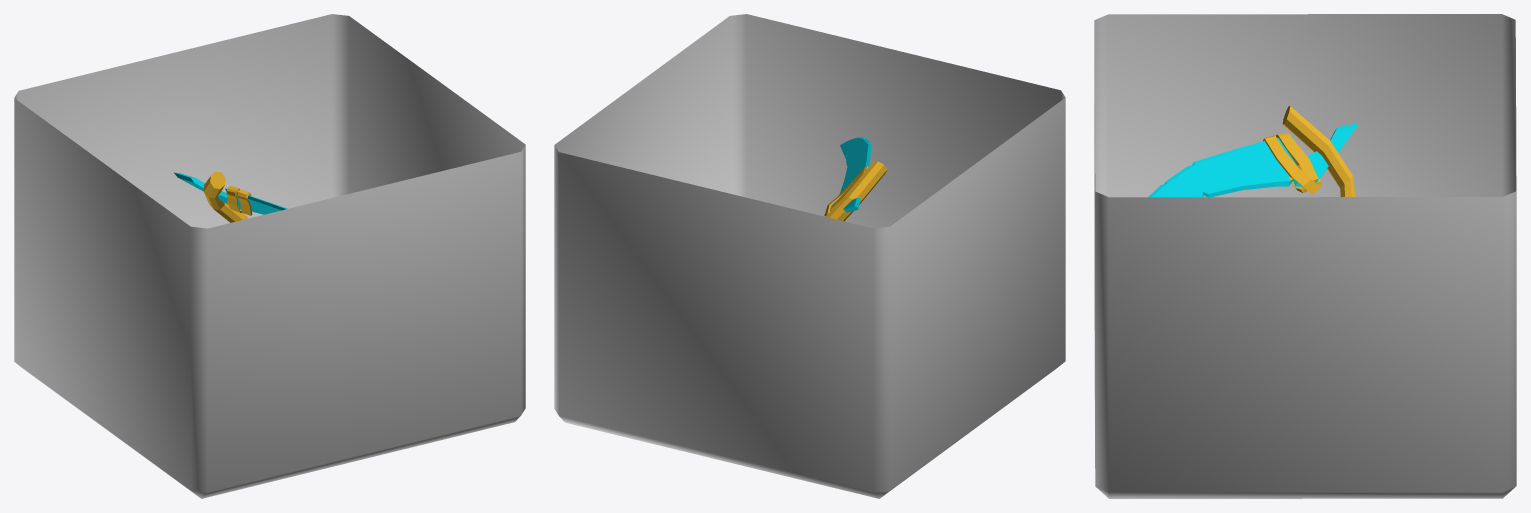
File: BUFFsyth.fbx
The picture shows the model from 3 angles, left to right: view 1: azimuth 30°, elevation 25°; view 2: azimuth 150°, elevation 25°; view 3: azimuth 270°, elevation 25°; orthographic projection. The views are drawn at different scales.
Parts seen in each view (by area): view 1: Buff_Syth, Scythe.001; view 2: Buff_Syth, Scythe.001; view 3: Buff_Syth, Scythe.001.
Part boxes in pixels (bbox=[...]): Buff_Syth: bbox=[14, 14, 525, 498]; Scythe.001: bbox=[174, 171, 287, 222]; Buff_Syth: bbox=[554, 14, 1065, 498]; Scythe.001: bbox=[824, 137, 886, 221]; Buff_Syth: bbox=[1094, 14, 1516, 498]; Scythe.001: bbox=[1148, 106, 1358, 197].
Bounding box in the file's own units: 261 × 204 × 254.
